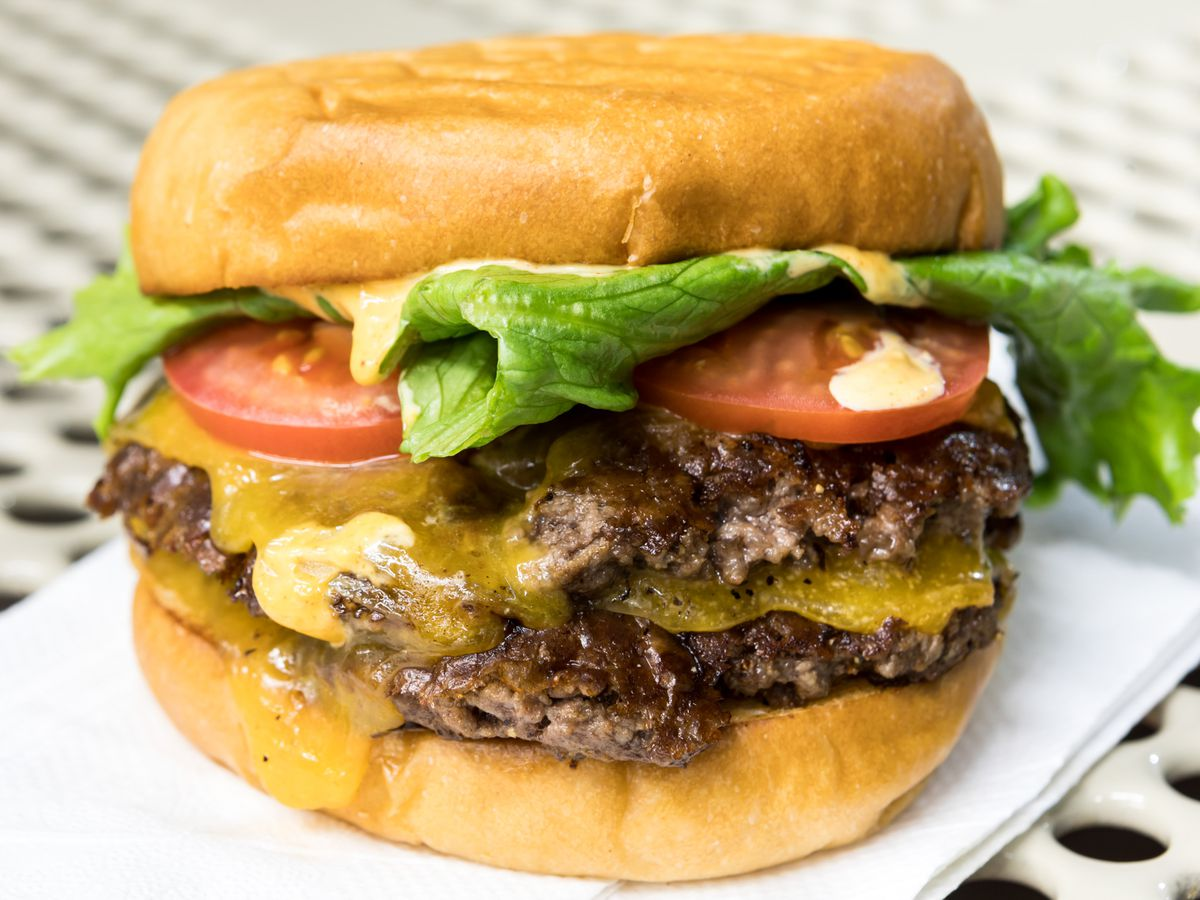hamburger_buns: (99, 563, 1025, 858), (87, 9, 1014, 281)
